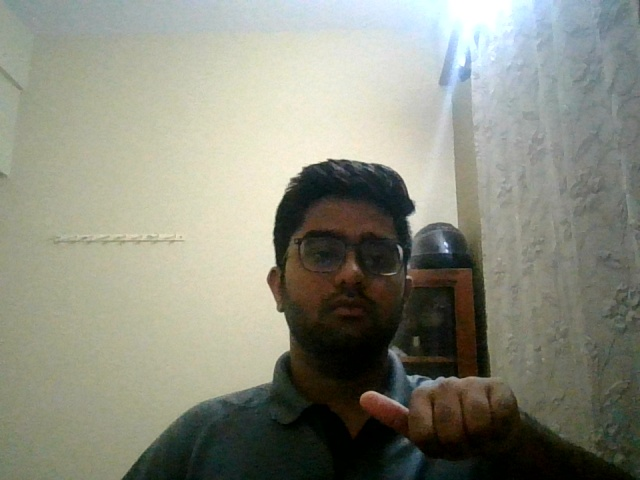Yes: (339, 352, 530, 480)
